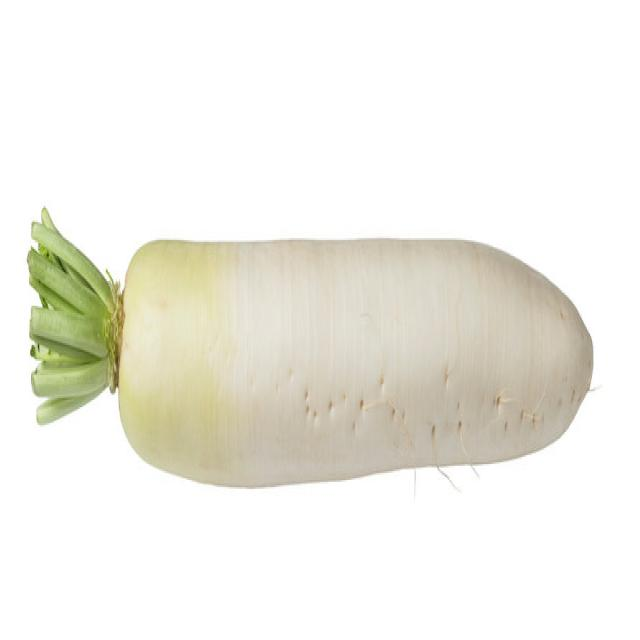Radish: (27, 206, 594, 489)
